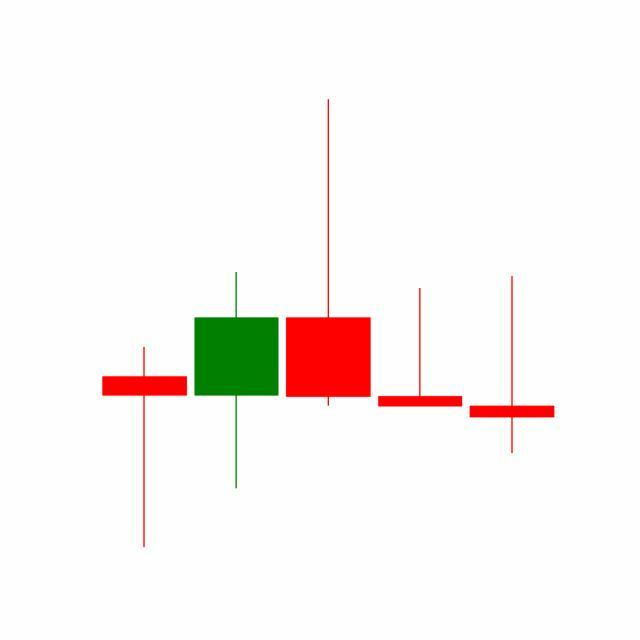Gravestone Doji: (374, 287, 468, 409)
